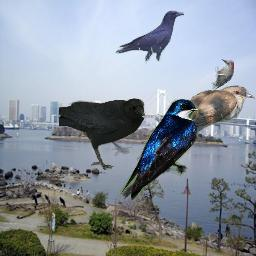Crow: (59, 98, 145, 170), (115, 10, 184, 66)
Cuckoo: (137, 85, 255, 161)
Swallow: (120, 99, 199, 200)
Woodpecker: (211, 59, 234, 92)
